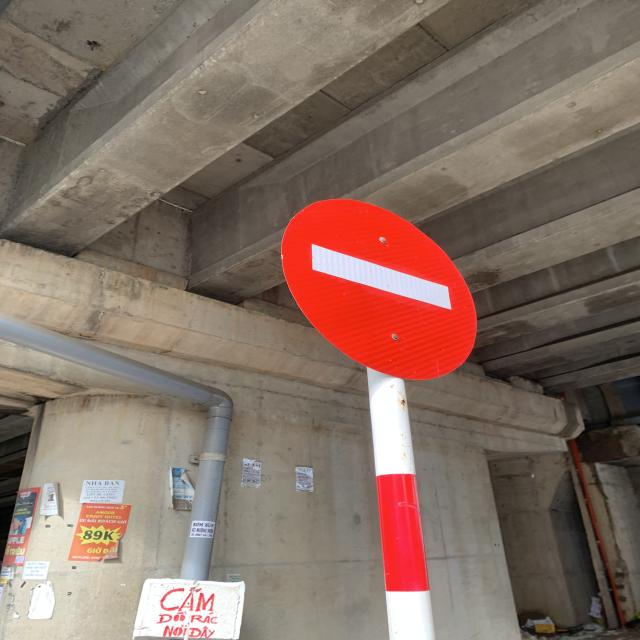Cam_Di_Nguoc_Chieu: (284, 197, 475, 383)
